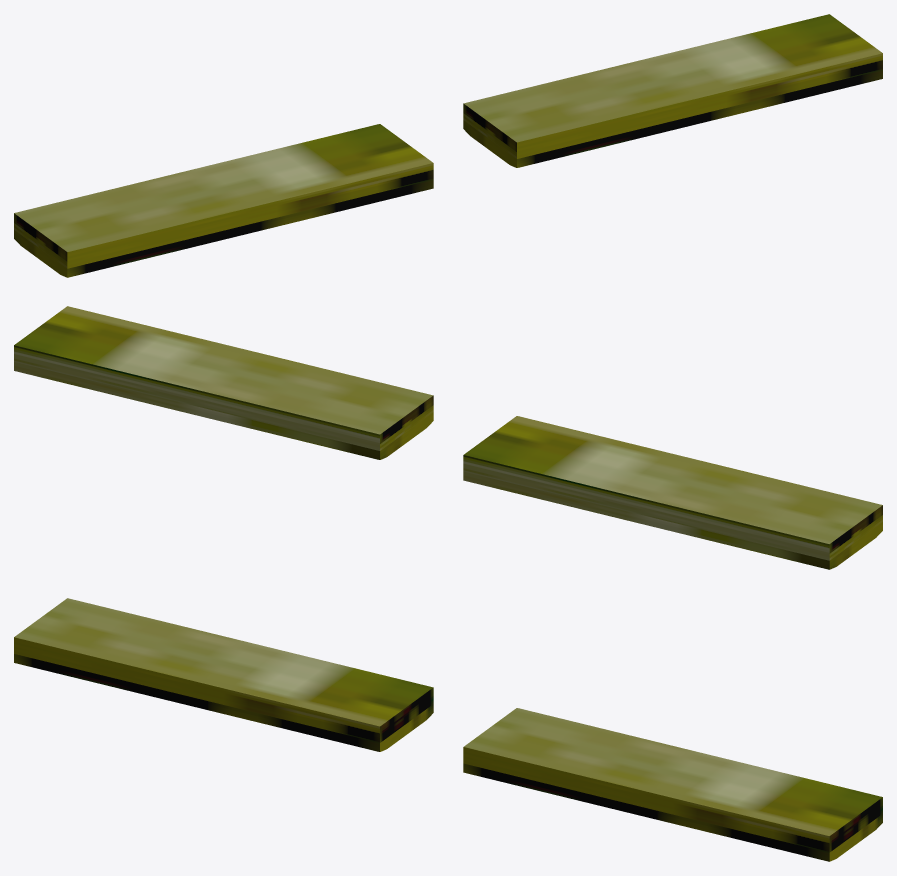
The model's file is lights.fbx.
3 renders of one model, top to bottom at view 1: azimuth 30°, elevation 25°; view 2: azimuth 150°, elevation 25°; view 3: azimuth 330°, elevation 25°, orthographic.
Parts seen in each view (by area): view 1: lights; view 2: lights; view 3: lights.
Part boxes in pixels (box(x1,y1,x2,y2)): lights: box(14, 14, 882, 277); lights: box(14, 306, 882, 569); lights: box(14, 598, 882, 861).
Bounding box in the file's own units: 1761 × 57.27 × 200.
1 material, 1 textured.
